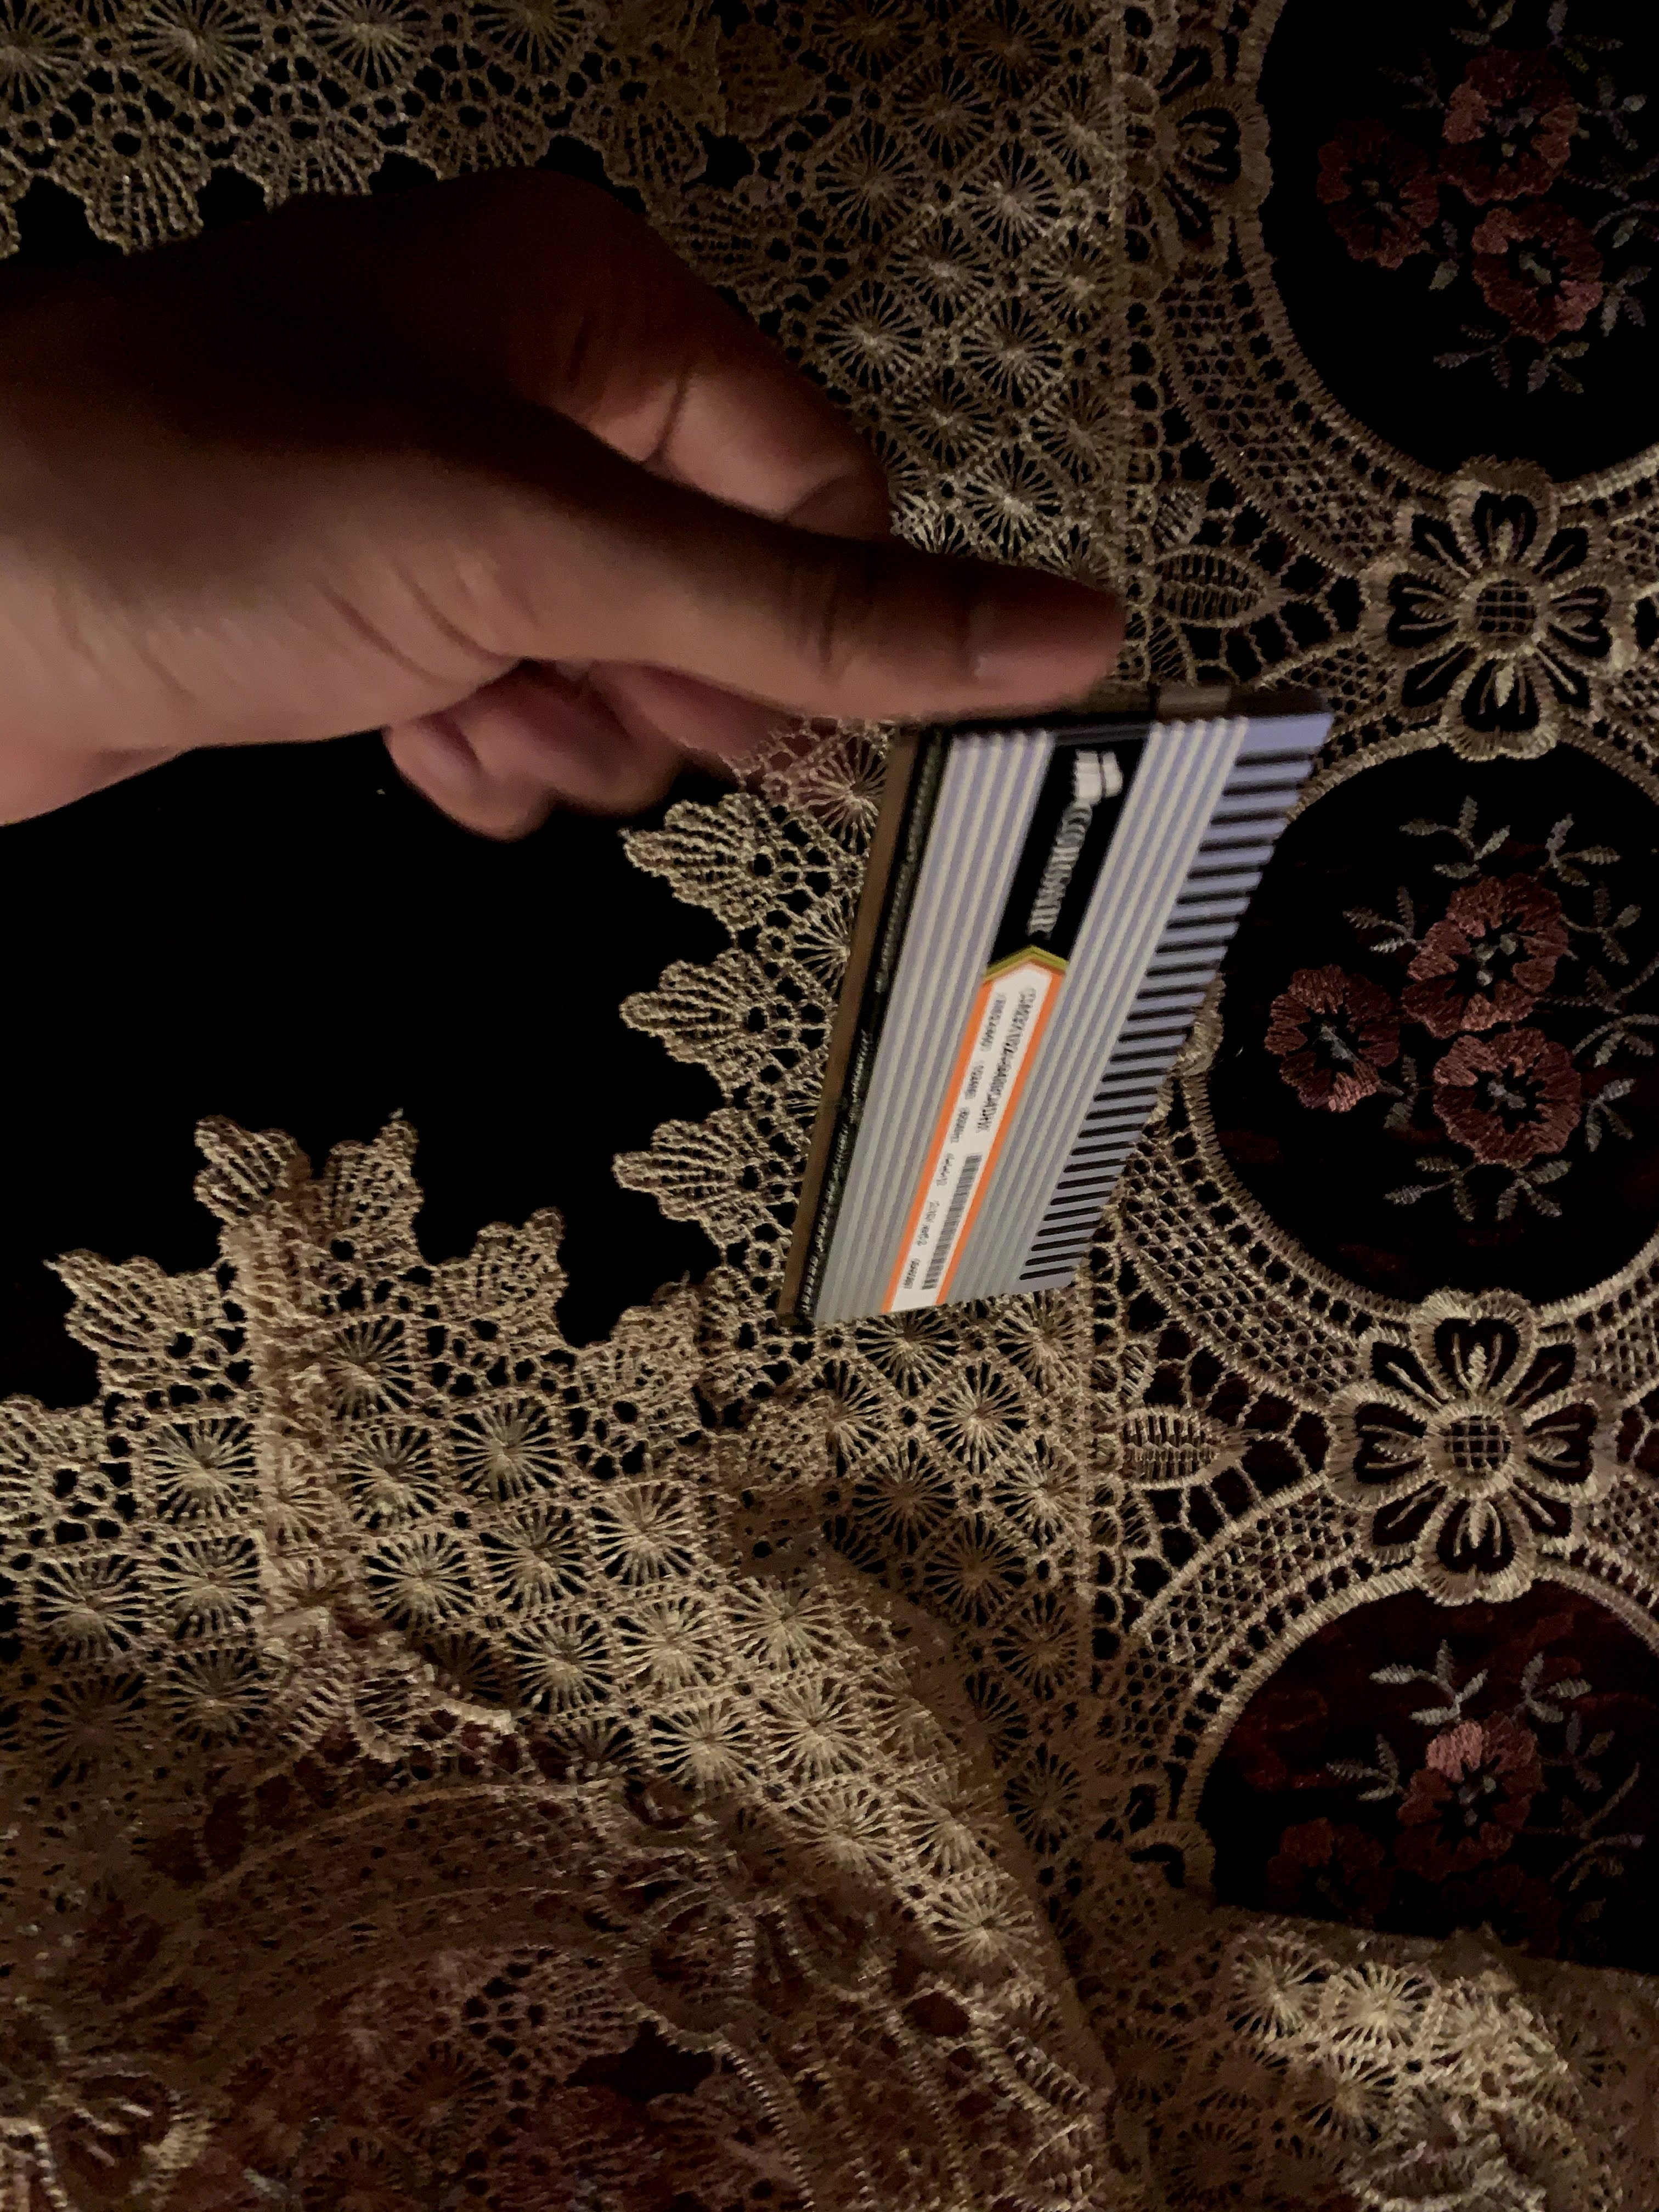Space-debris-medium: (756, 705, 1378, 1372)
